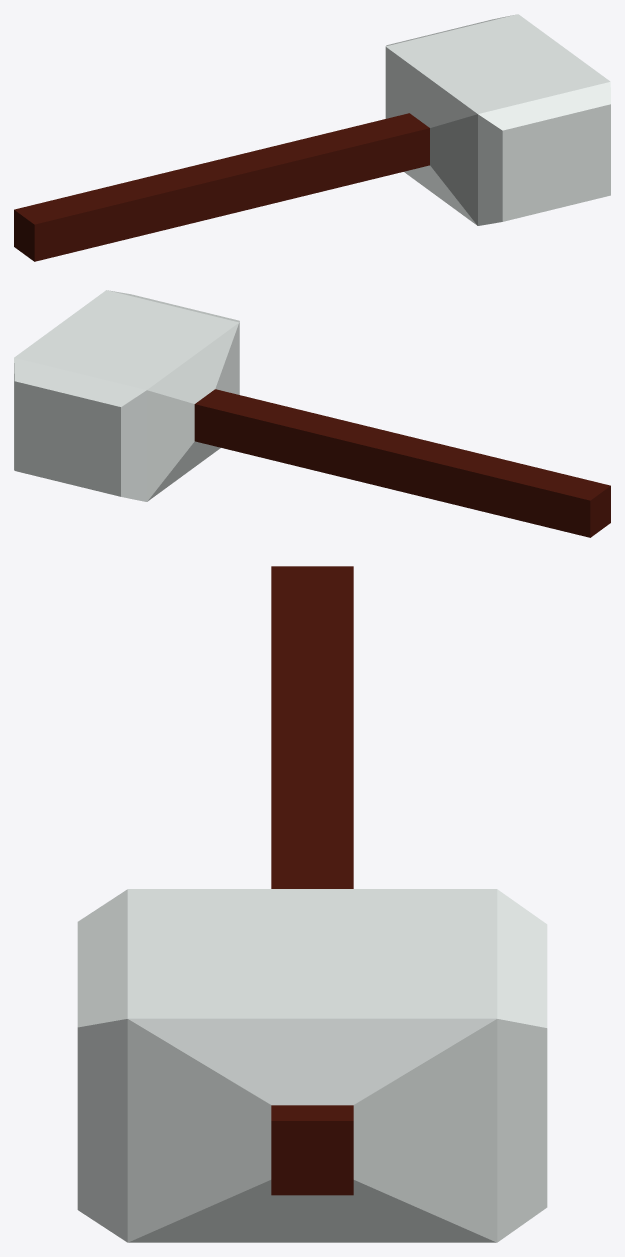
The model's file is ogre_weapon.glb.
3 views of the same model, one above another, from view 1: azimuth 30°, elevation 25°; view 2: azimuth 150°, elevation 25°; view 3: azimuth 270°, elevation 25° (orthographic). The views are drawn at different scales.
Parts seen in each view (by area): view 1: ogre_weapon; view 2: ogre_weapon; view 3: ogre_weapon.
Boxes of the visible parts, x1=… form: ogre_weapon: x1=14, y1=14, x2=610, y2=261; ogre_weapon: x1=14, y1=290, x2=610, y2=537; ogre_weapon: x1=77, y1=566, x2=547, y2=1242.
Bounding box in the file's own units: 5.25 × 0.9885 × 1.88.
1 material, 1 textured.
